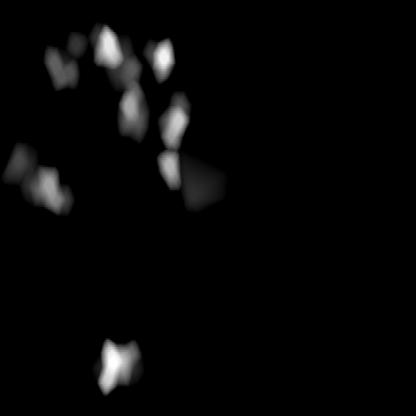fingers: (99, 338, 139, 392)
palm: (19, 29, 188, 207)
